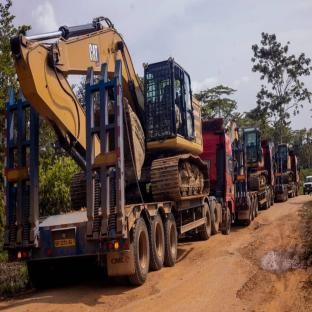ExcavationMachinery: (5, 22, 206, 195), (226, 118, 268, 190)
